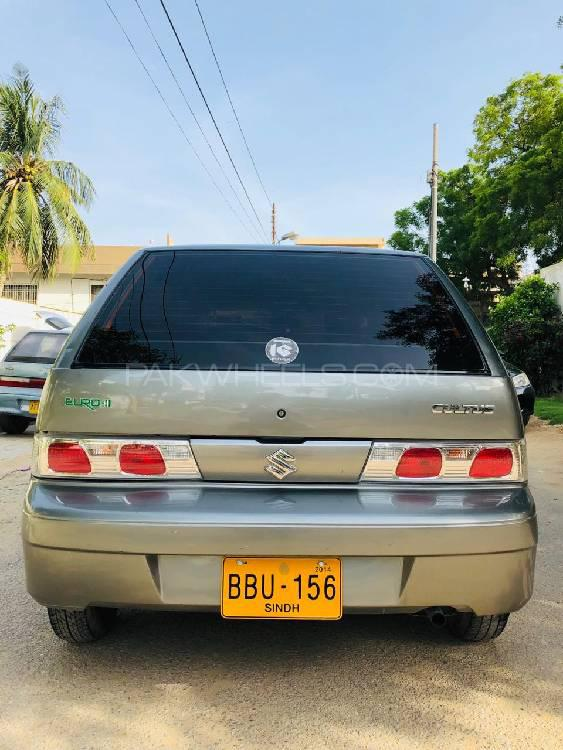license plate: (216, 555, 346, 620)
